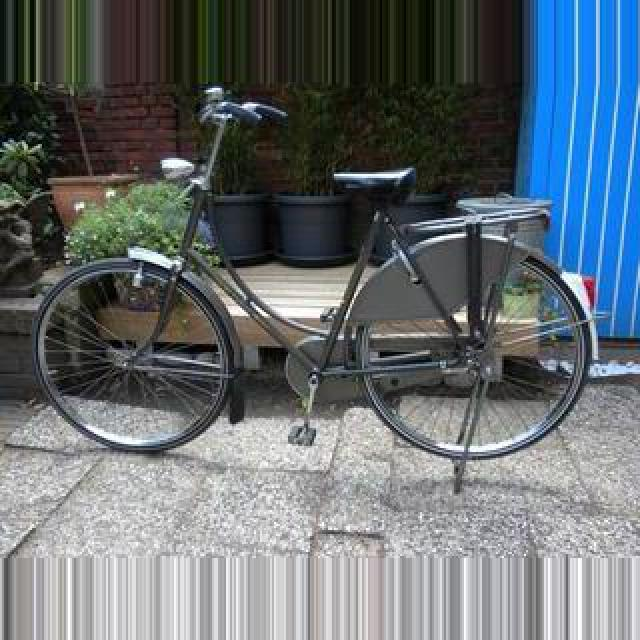Person: (33, 100, 613, 492)
